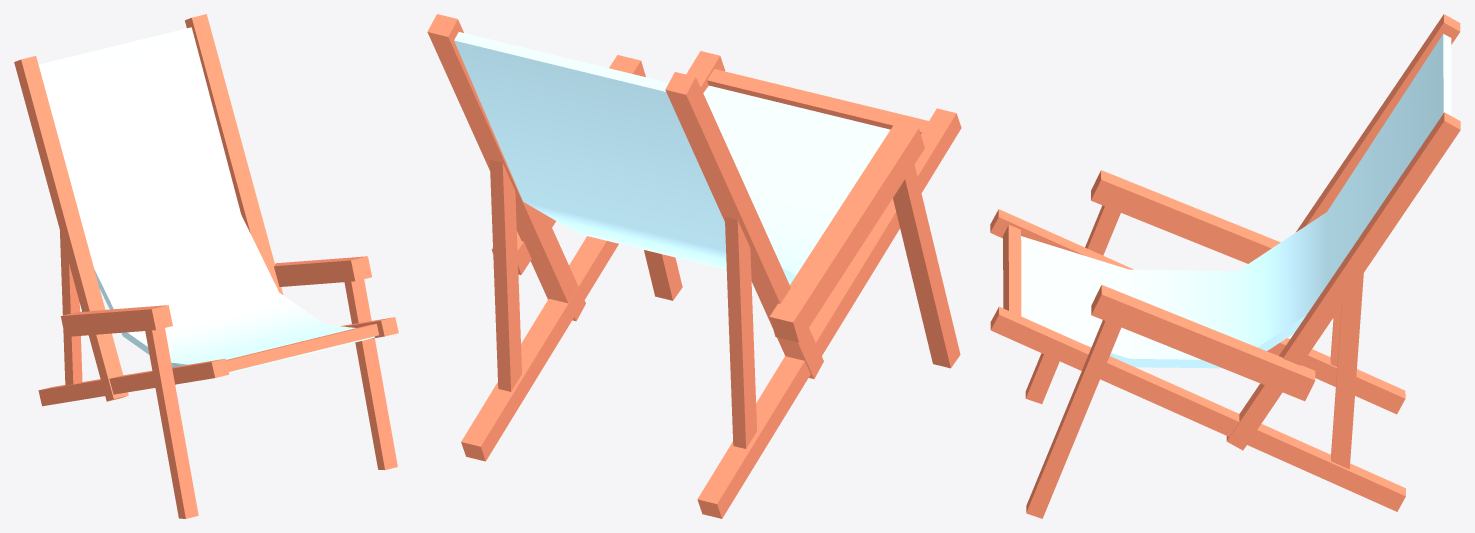
The model's file is Sunbead_01.glb.
The picture shows the model from 3 angles, left to right: view 1: azimuth 30°, elevation 25°; view 2: azimuth 150°, elevation 25°; view 3: azimuth 270°, elevation 25°; orthographic projection. The views are drawn at different scales.
Visible parts, largest first — view 1: Sunbead_01; view 2: Sunbead_01; view 3: Sunbead_01.
Part boxes in pixels (box(x1,y1,x2,y2)): Sunbead_01: box(14, 14, 398, 518); Sunbead_01: box(427, 14, 961, 518); Sunbead_01: box(990, 14, 1460, 518).
Size of the model in its own units: 0.912 by 1.34 by 1.46.
Materials: 1 (1 with a texture image).
